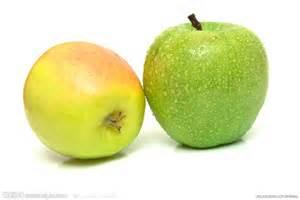apple: (28, 42, 141, 160)
